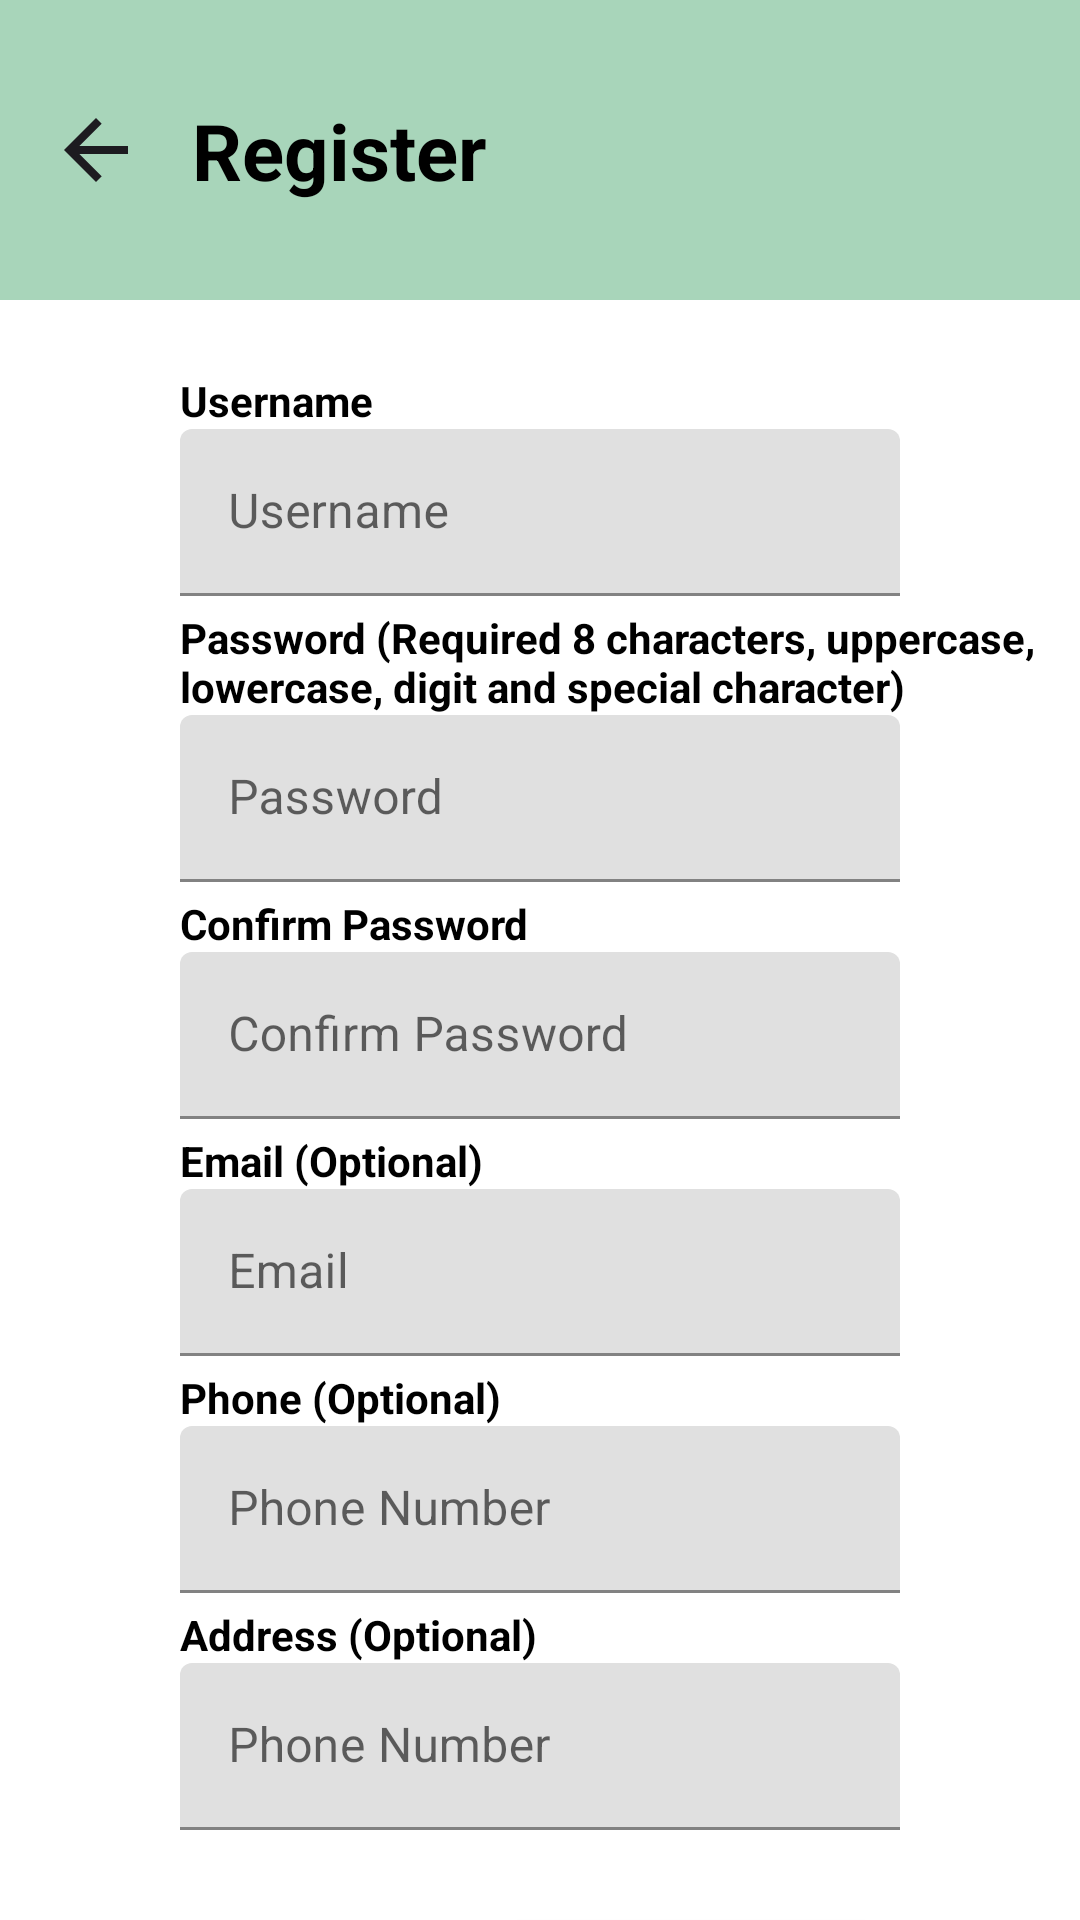

Icon bounding boxes for this 1080*1920 phone screenshot, format (x1, y1, x2, y2):
Return: (64, 118, 128, 182)
